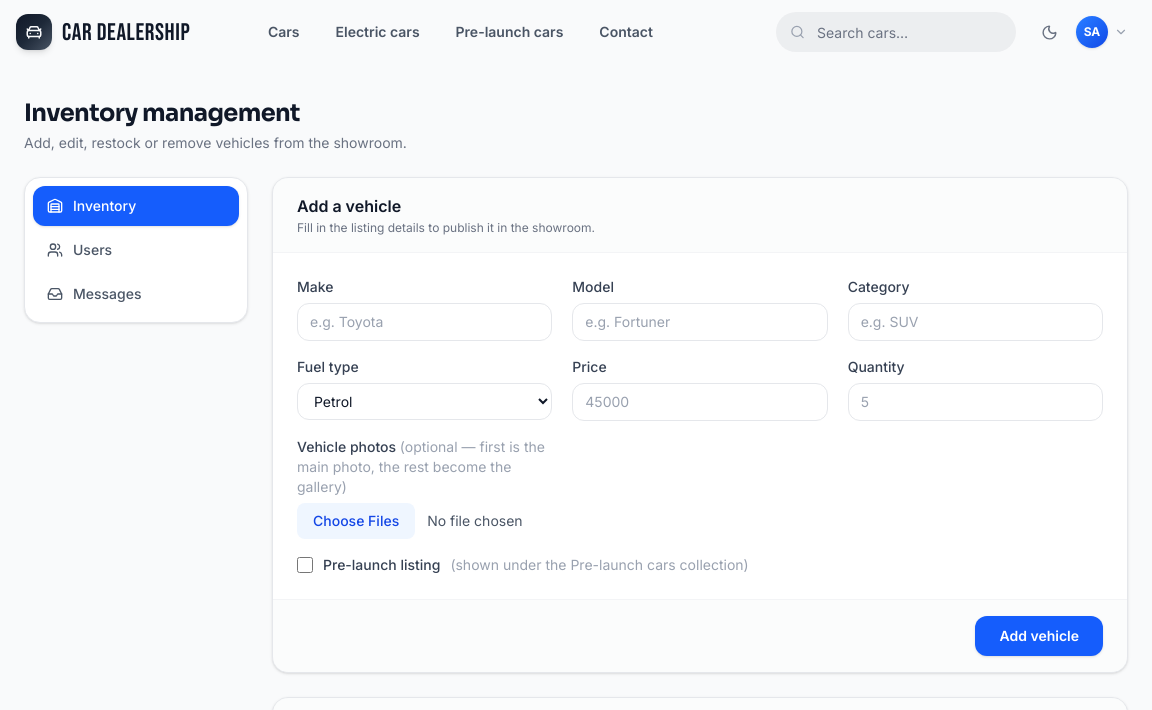
AdminPage › adds a new vehicle through the form
Type "Tesla" into the field labelled "Make" at {"x": 425, "y": 322}, box [297,303,552,341]
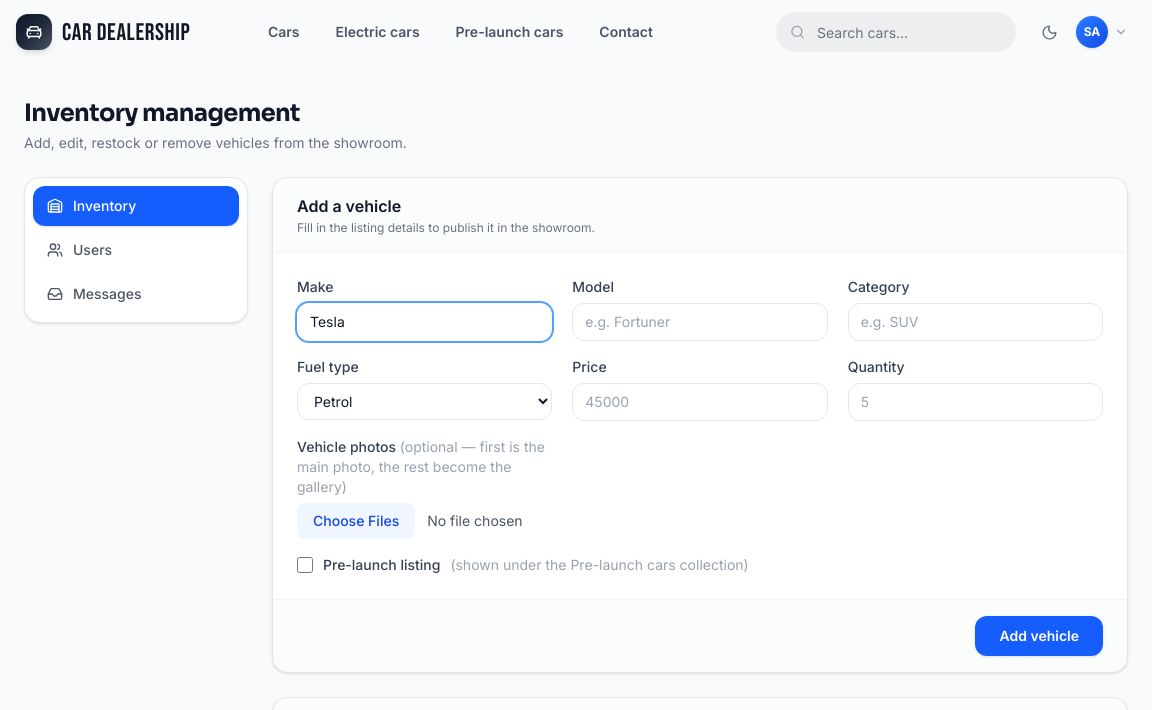
Type "Model 3" into the field labelled "Model" at {"x": 700, "y": 322}, box [572,303,828,341]
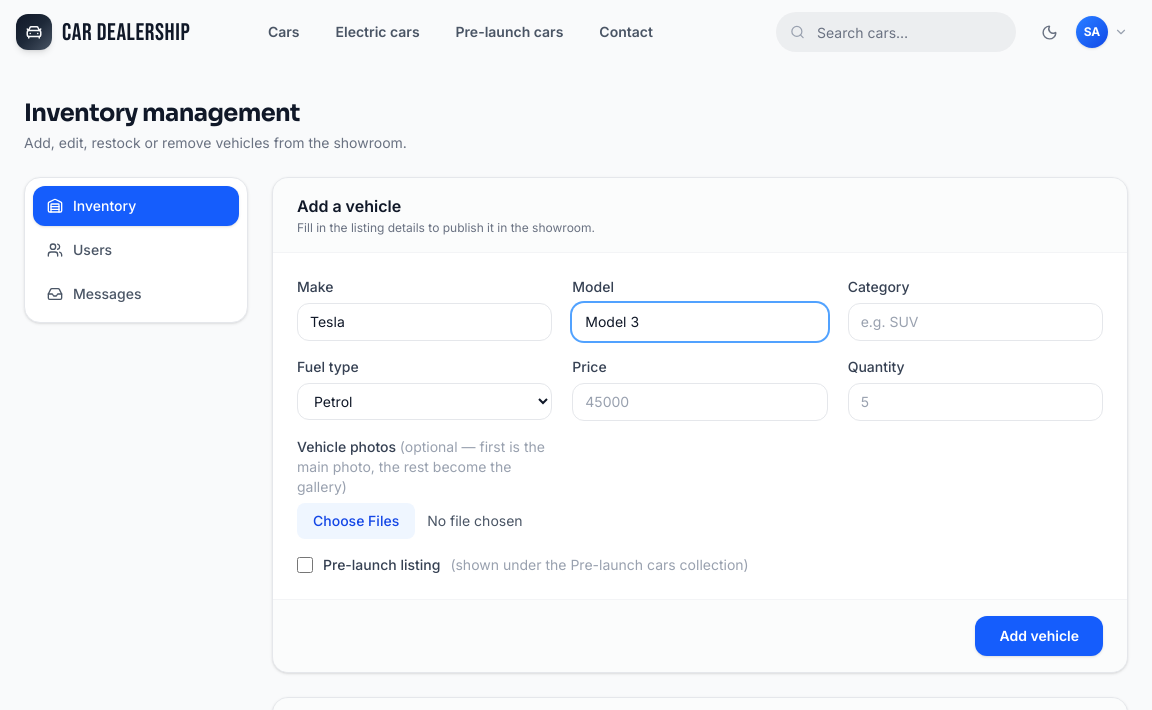
Type "EV" into the field labelled "Category" at {"x": 975, "y": 322}, box [848,303,1103,341]
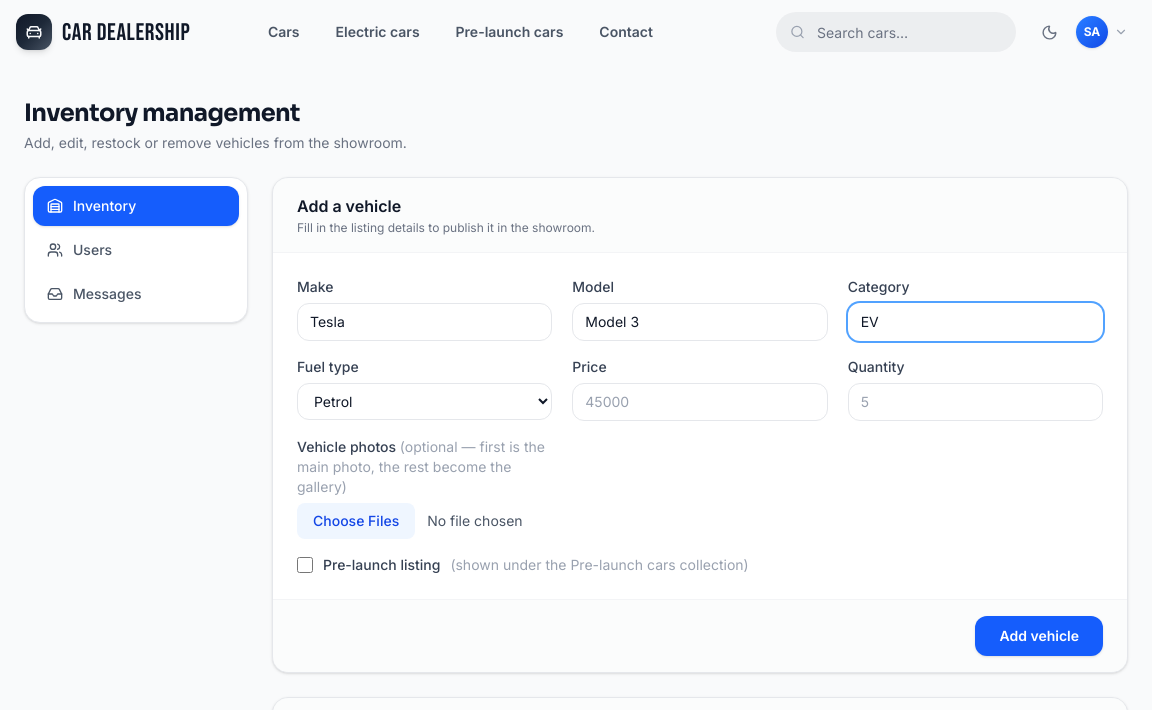
Type "50000" into the number field labelled "Price" at {"x": 700, "y": 402}, box [572,383,828,421]
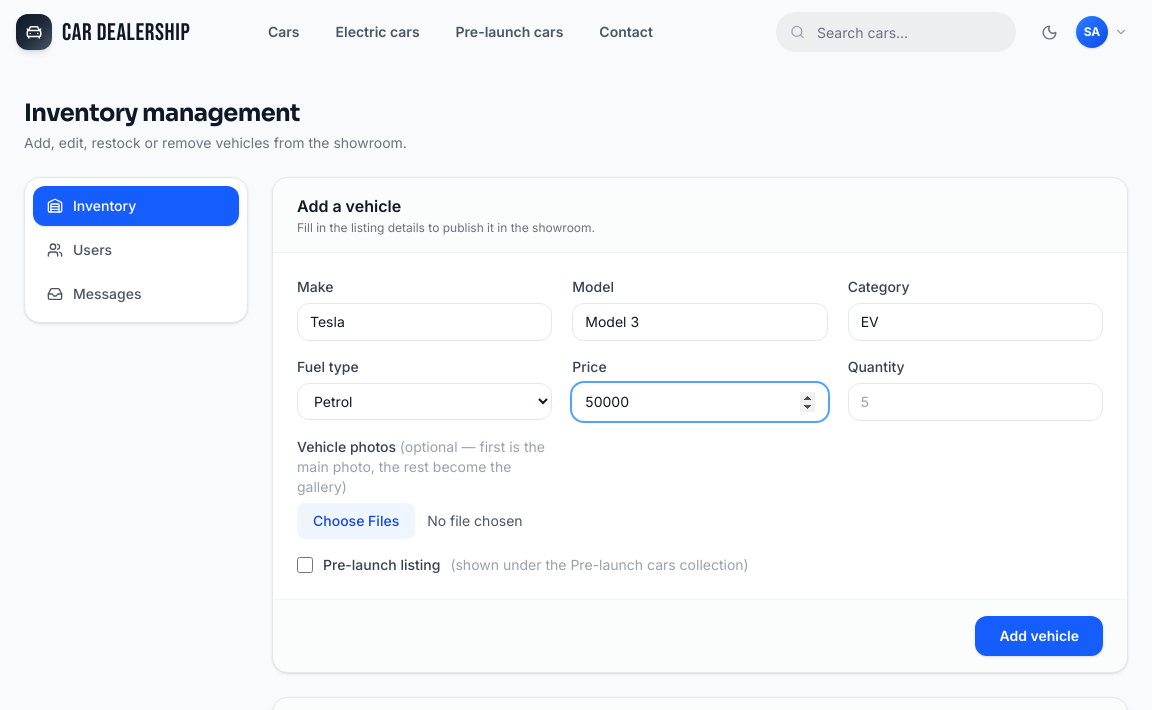
Type "2" into the number field labelled "Quantity" at {"x": 975, "y": 402}, box [848,383,1103,421]
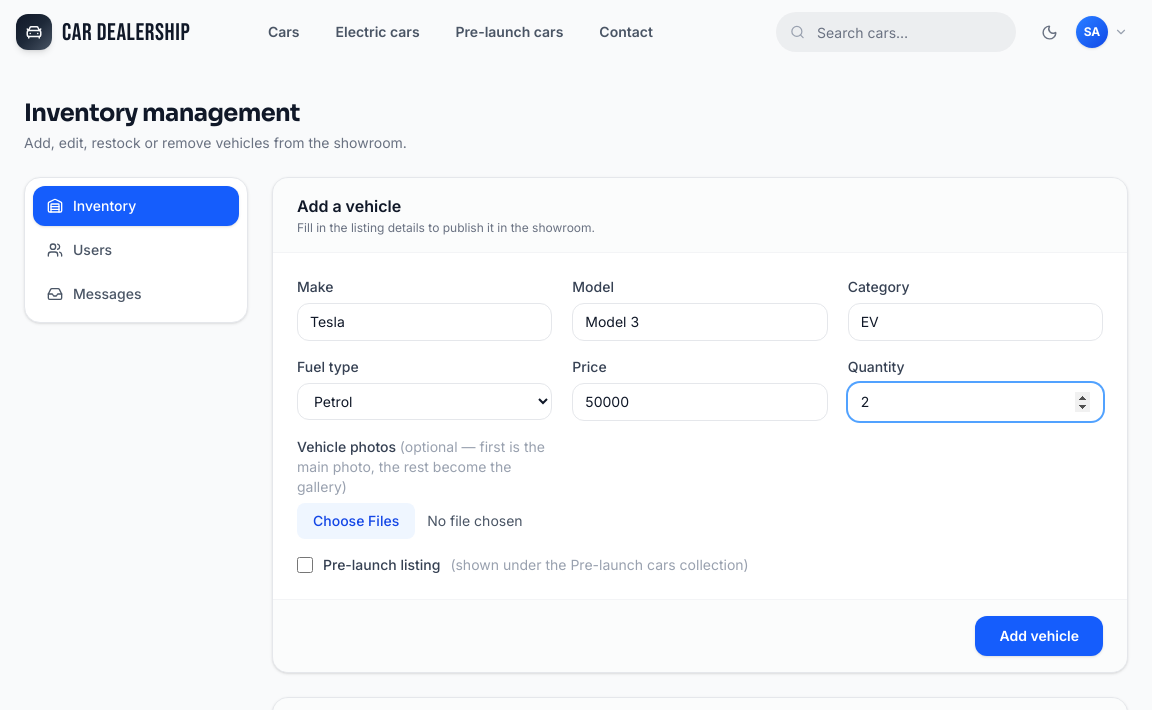
Click the button "Add vehicle" at {"x": 1039, "y": 636}, box [976,616,1103,656]
(page scrolled)
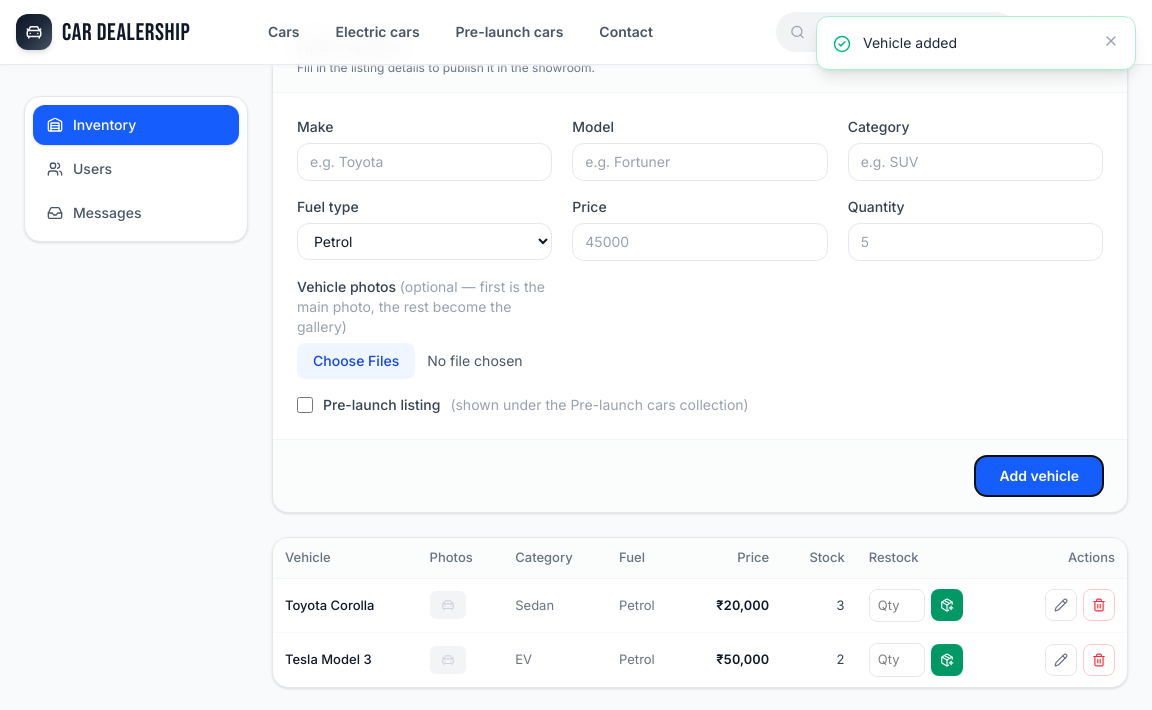
Expected: the text "Tesla Model 3" is shown, [285,651,372,667]
